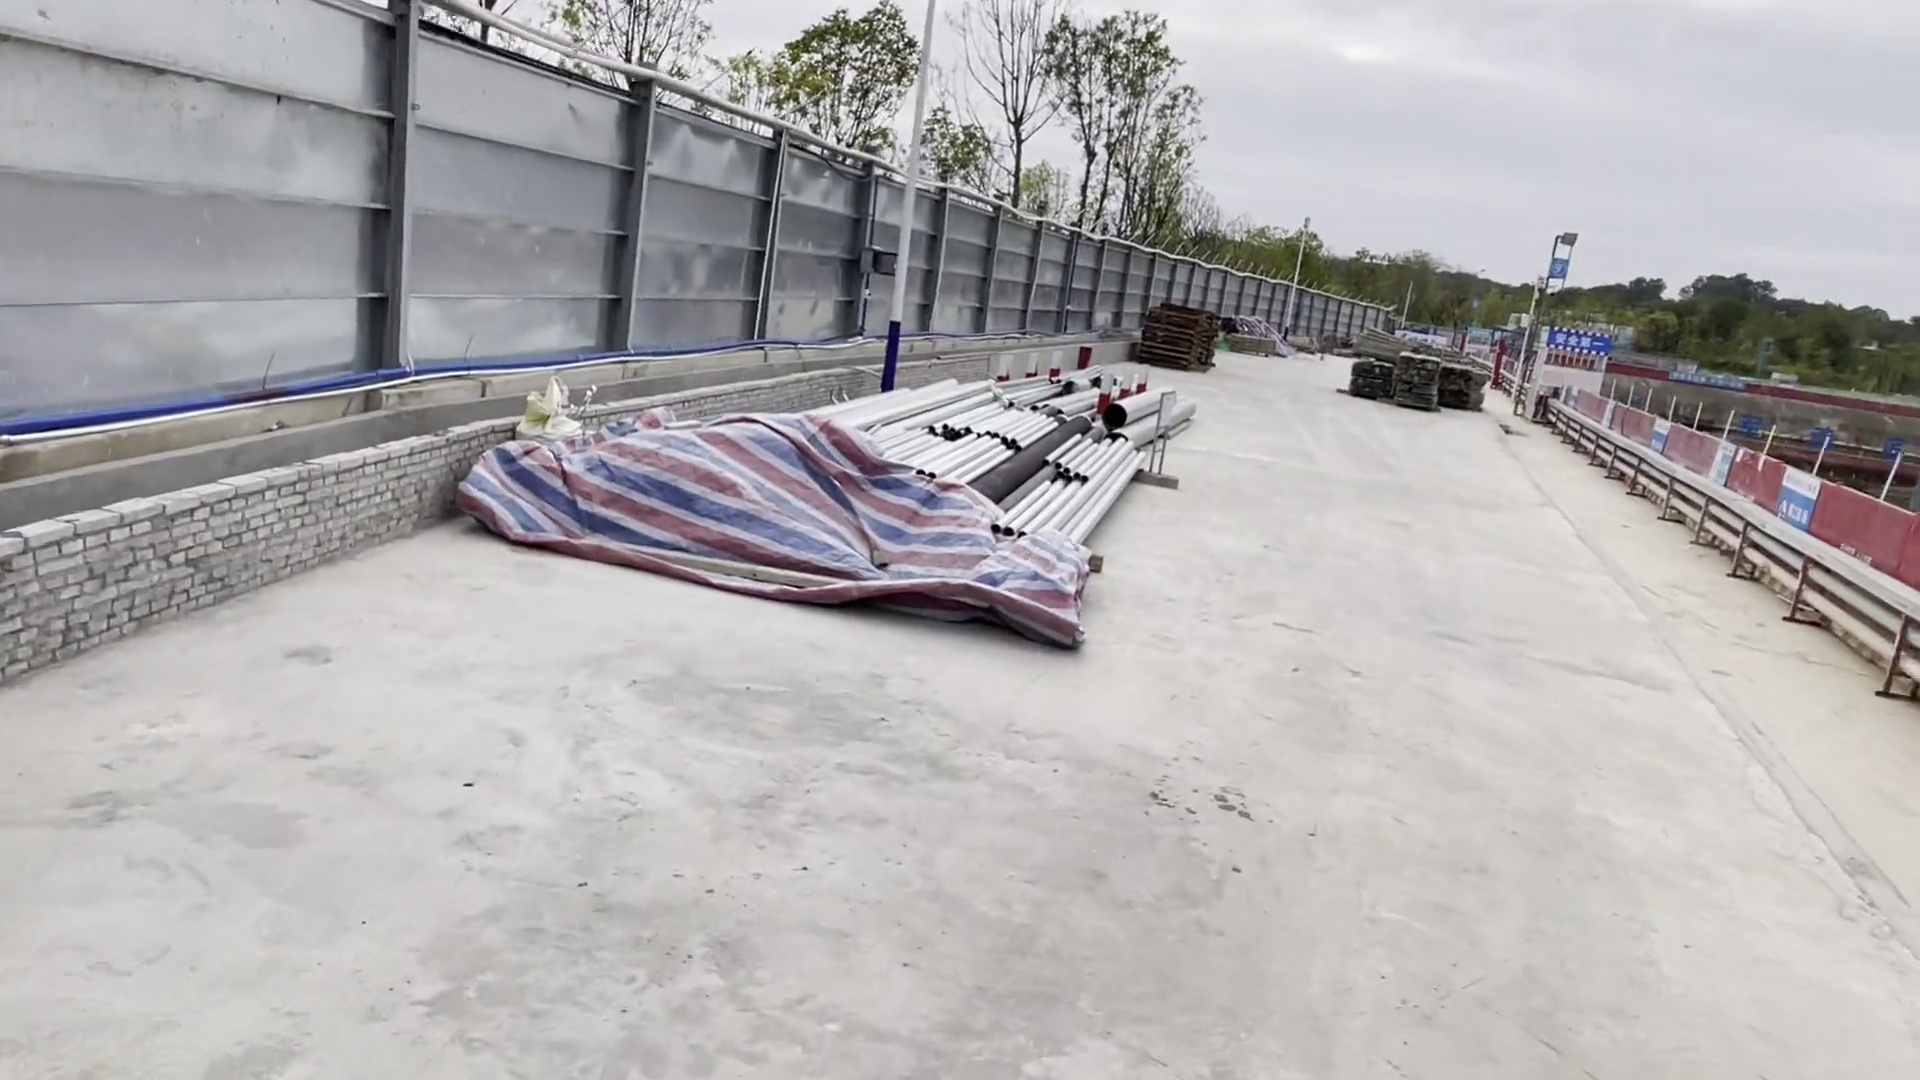brick: (1, 433, 473, 684), (597, 375, 851, 425)
fence: (1578, 386, 1913, 574)
slogan: (1774, 468, 1816, 529), (1543, 335, 1604, 353), (1650, 419, 1669, 448)
